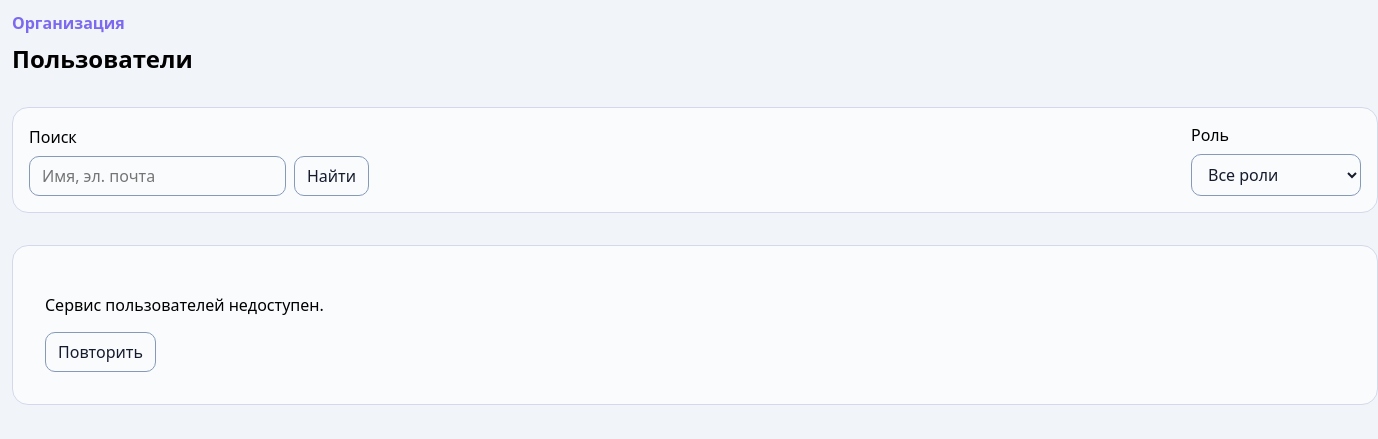
Test case: Users list › shows empty and failure states with retry
The width and height of the screenshot is (1378, 439).
Check: the message "Сервис пользователей недоступен. Повторить" is shown, box [12,245,1377,405]
Click the button "Повторить".
click(100, 352)  # box [45,332,156,372]
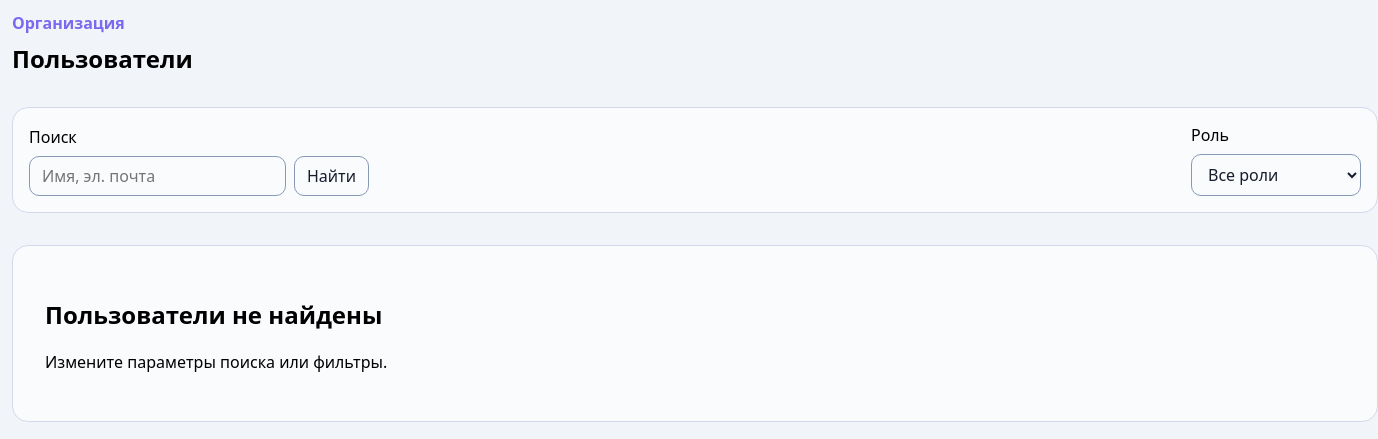
Check: the heading "Пользователи не найдены" is shown, box [45,298,382,331]
